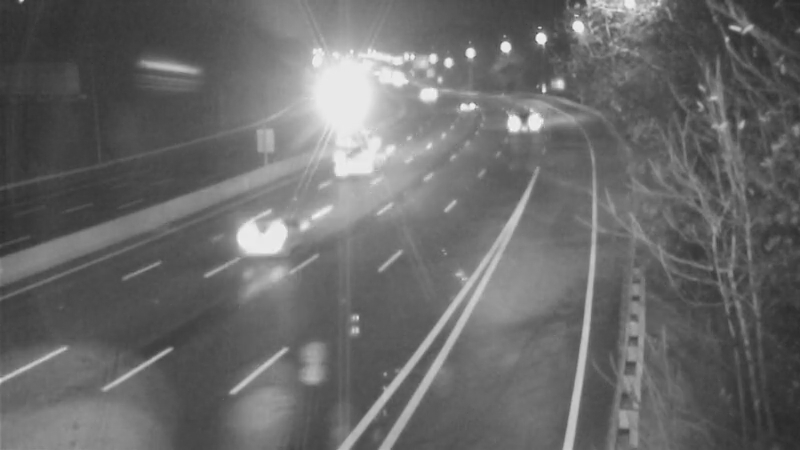vehicle: (320, 113, 400, 193), (225, 201, 305, 281), (399, 69, 449, 119), (440, 84, 490, 134), (491, 96, 541, 146), (311, 90, 361, 140)
